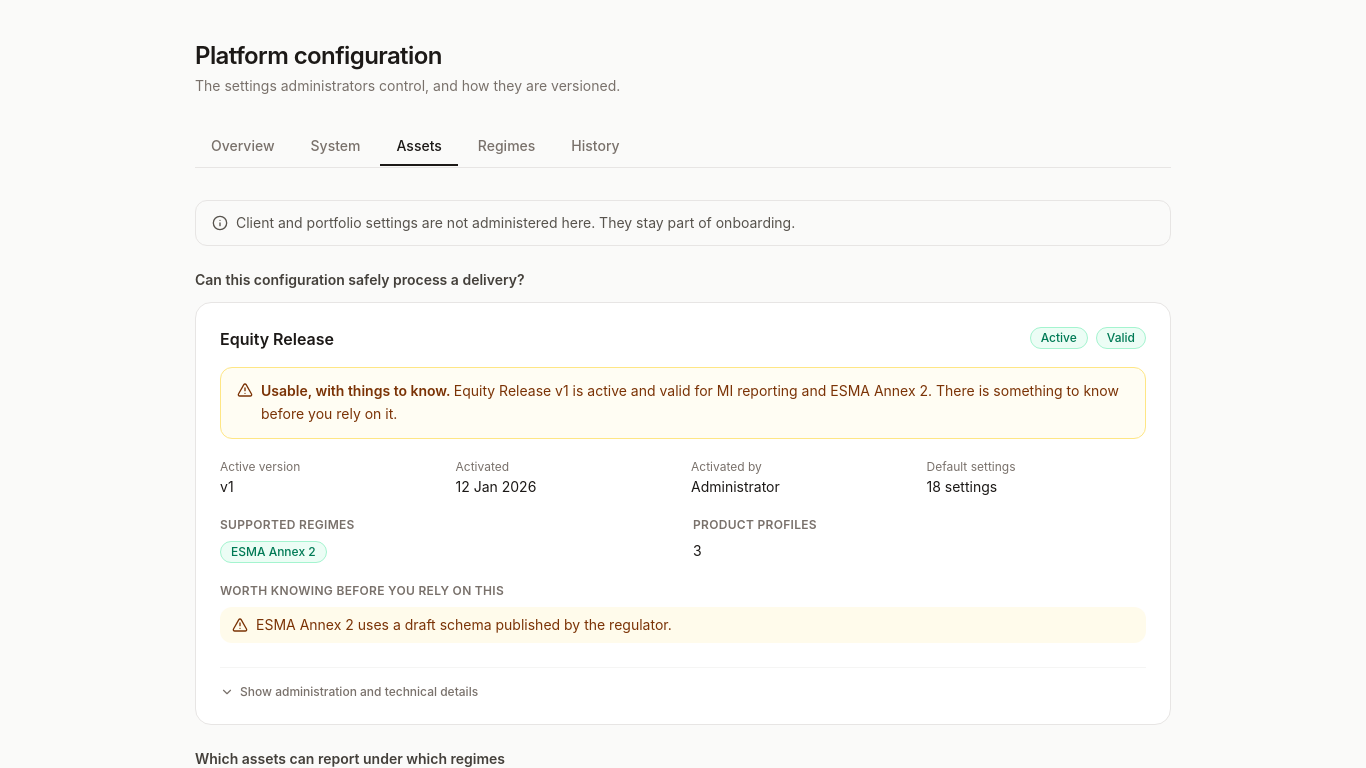
it: asset configuration › keeps raw identifiers out of the operational view
Check: the element that starts with "Equity Release" is shown, box [195,302,1171,724]
Check: the text "equity_release" is not shown
// …but nothing is lost: the administrator detail is one disclosure away.
Step 1. Click the button "Show administration and technical details" → (349, 692), box [220,684,478,700]
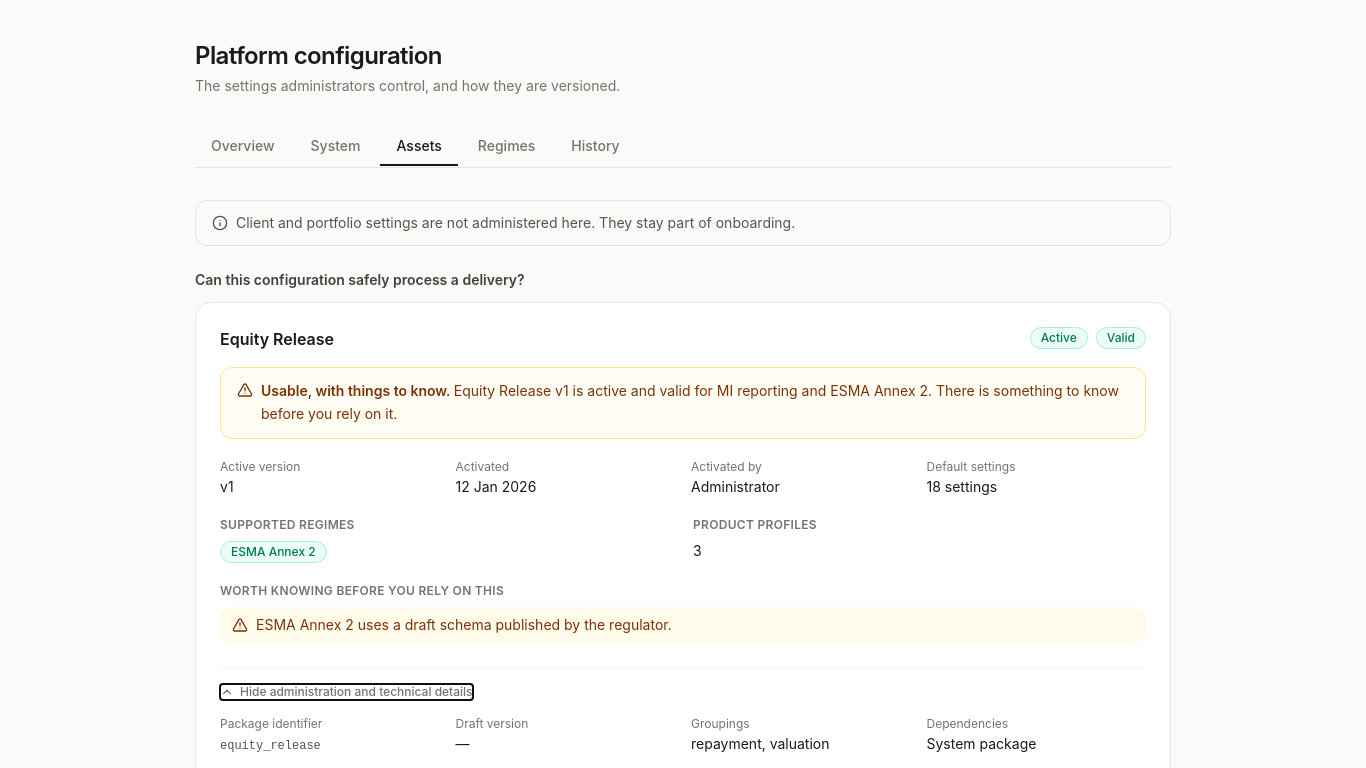
Check: the text "equity_release" is shown, box [220,738,321,752]
Check: the text "System package" is shown, box [926,734,1036,752]
Check: the text "Groupings" is shown, box [691,716,750,730]
